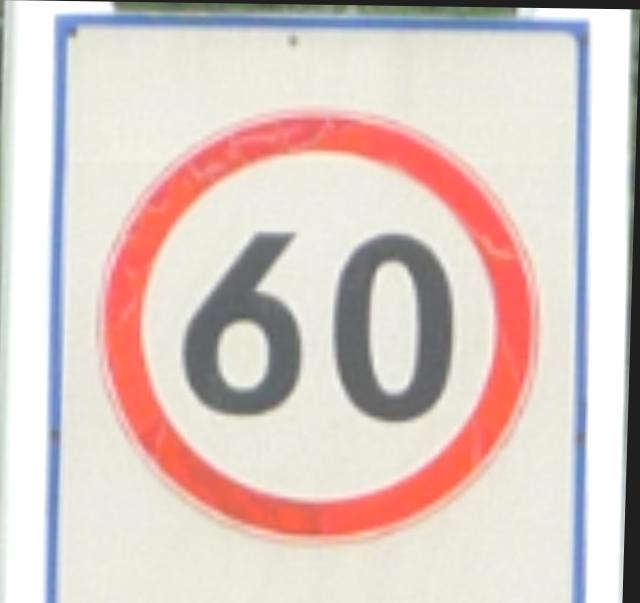limit60: (87, 93, 558, 561)
